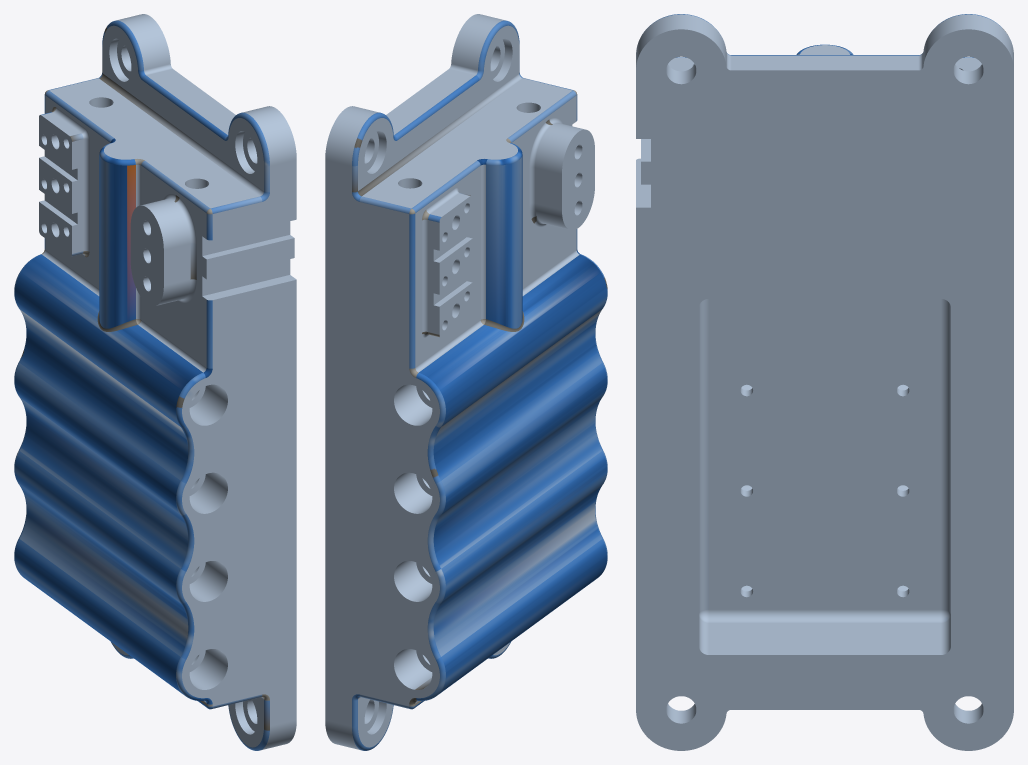
The model's file is roughness_model.glb.
3 views of the same model, side by side, from view 1: azimuth 30°, elevation 25°; view 2: azimuth 150°, elevation 25°; view 3: azimuth 270°, elevation 25° (orthographic). The views are drawn at different scales.
Visible parts, largest first — view 1: part; view 2: part; view 3: part.
Part boxes in pixels (x1,y1,x2,y2): part: [14, 14, 296, 750]; part: [325, 14, 607, 750]; part: [636, 14, 1013, 750].
Size of the model in its own units: 31 by 158 by 75.
